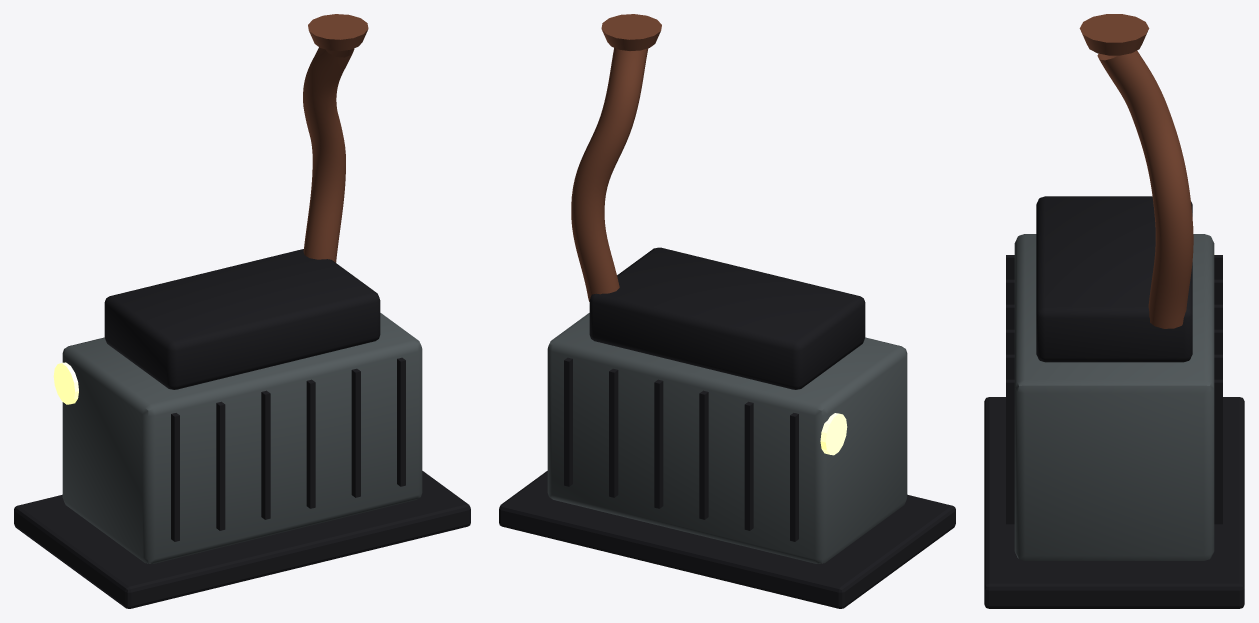
Rendered from generator.glb.
3 renders of one model, left to right at view 1: azimuth 30°, elevation 25°; view 2: azimuth 150°, elevation 25°; view 3: azimuth 270°, elevation 25°, orthographic. The views are drawn at different scales.
Parts seen in each view (by area): view 1: Cube.001, Cube.008, Cube, pipe, Cylinder, Cube.005, Cube.004, Cube.006, Cube.003, Cube.007, Cube.002, Cylinder.001; view 2: Cube.001, Cube.008, Cube, pipe, Cylinder, Cube.005, Cube.004, Cube.006, Cube.003, Cube.007, Cube.002, Cylinder.001; view 3: Cube.001, Cube.008, Cube, pipe, Cube.007, Cylinder, Cube.003, Cube.004, Cube.005, Cube.006, Cube.002.
Part boxes in pixels (x1,y1,x2,y2): Cube.001: (62, 313, 422, 563); Cube.008: (104, 249, 380, 389); Cube: (14, 471, 470, 608); pipe: (303, 47, 354, 262); Cylinder: (308, 14, 368, 50); Cube.005: (306, 379, 315, 508); Cube.004: (261, 390, 270, 519); Cube.006: (351, 368, 360, 497); Cube.003: (216, 401, 225, 530); Cube.007: (397, 357, 405, 486); Cube.002: (171, 413, 179, 541); Cylinder.001: (53, 362, 78, 404); Cube.001: (547, 313, 907, 563); Cube.008: (589, 247, 865, 389); Cube: (499, 471, 955, 608); pipe: (571, 48, 648, 301); Cylinder: (601, 14, 661, 50); Cube.005: (654, 379, 663, 508); Cube.004: (699, 390, 708, 519); Cube.006: (609, 368, 618, 497); Cube.003: (744, 401, 753, 530); Cube.007: (564, 357, 572, 486); Cube.002: (790, 413, 798, 541); Cylinder.001: (820, 413, 847, 455); Cube.001: (1014, 234, 1214, 560); Cube.008: (1036, 196, 1192, 362); Cube: (984, 397, 1244, 608); pipe: (1097, 50, 1193, 328); Cube.007: (1006, 379, 1222, 524); Cylinder: (1079, 14, 1149, 55); Cube.003: (1006, 279, 1222, 304); Cube.004: (1006, 304, 1222, 329); Cube.005: (1006, 329, 1222, 354); Cube.006: (1006, 354, 1222, 379); Cube.002: (1006, 255, 1222, 279).
Bounding box in the file's own units: 2.6 × 3.43 × 1.5.
